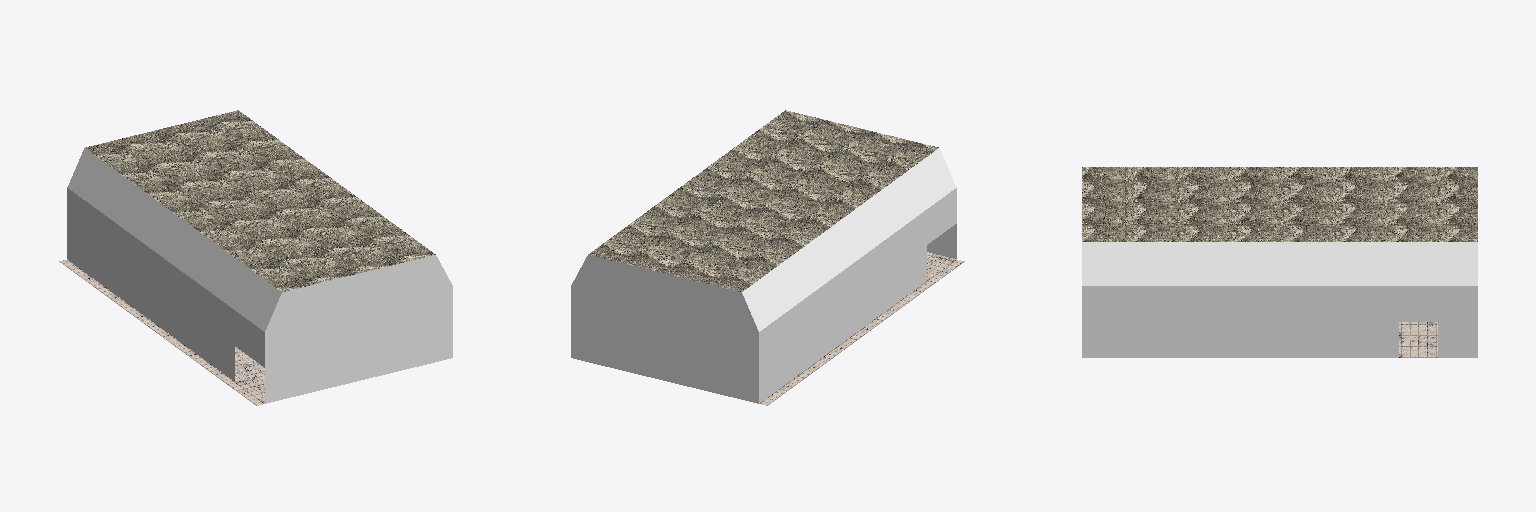
3 renders of one model, left to right at view 1: azimuth 30°, elevation 25°; view 2: azimuth 150°, elevation 25°; view 3: azimuth 270°, elevation 25°, orthographic.
Parts seen in each view (by area): view 1: Hangar; view 2: Hangar; view 3: Hangar.
Part boxes in pixels (bbox=[...]): Hangar: bbox=[59, 110, 452, 405]; Hangar: bbox=[571, 110, 964, 405]; Hangar: bbox=[1082, 167, 1477, 357].
Size of the model in its own units: 23 by 12 by 40.
3 materials, 2 textured.